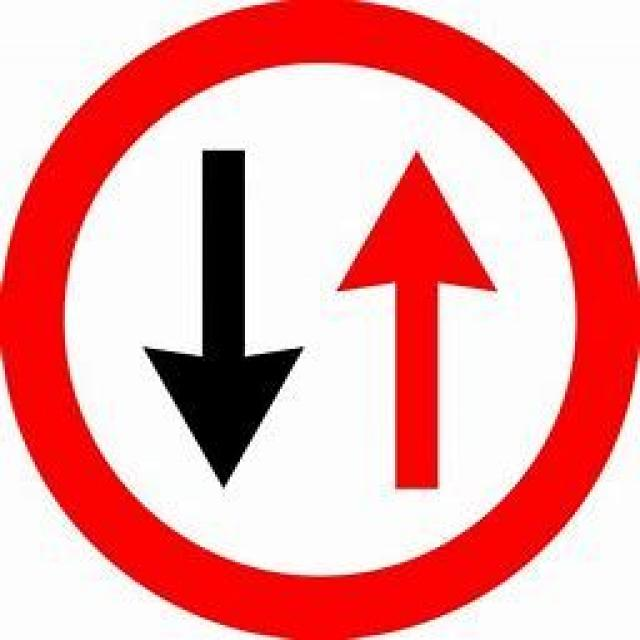PRIORITY_FOR_ONCOMING_VEHICLES: (0, 0, 637, 637)
